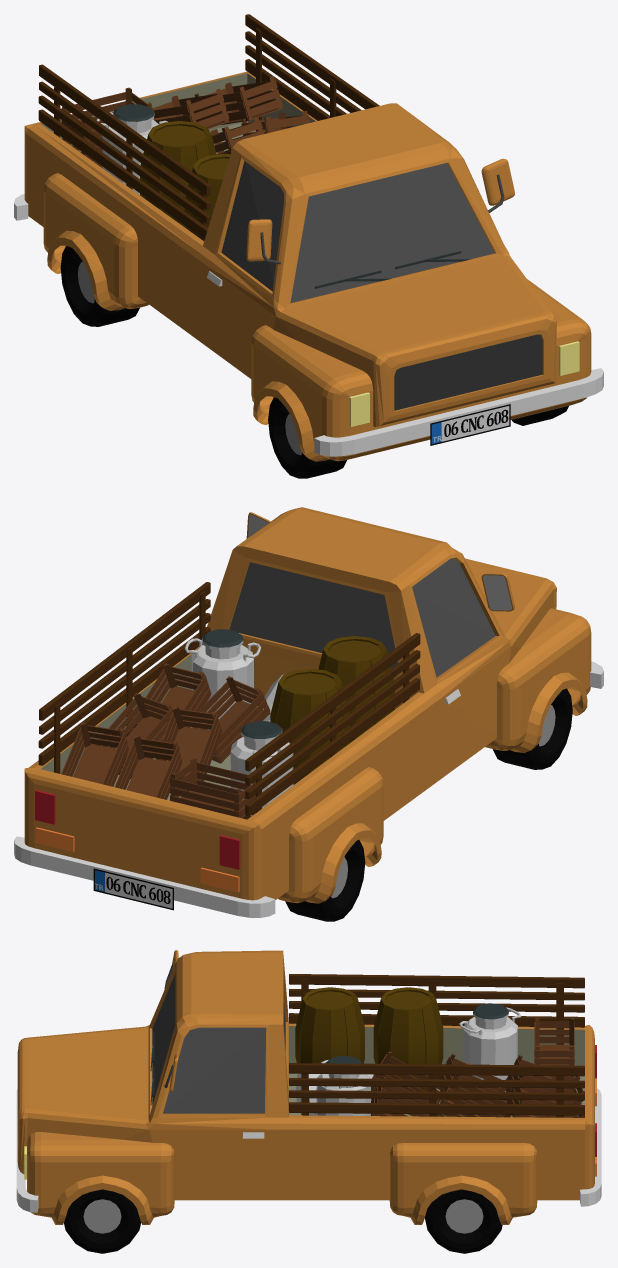
Rendered from Kamyon (2).fbx.
3 views of the same model, one above another, from view 1: azimuth 30°, elevation 25°; view 2: azimuth 150°, elevation 25°; view 3: azimuth 270°, elevation 25° (orthographic). The views are drawn at different scales.
Parts seen in each view (by area): view 1: Kamyon; view 2: Kamyon; view 3: Kamyon.
Part boxes in pixels (x1,y1,x2,y2): Kamyon: (14,14,603,478); Kamyon: (14,507,603,921); Kamyon: (16,950,601,1253).
Bounding box in the file's own units: 300 × 248 × 612.
1 material, 1 textured.
